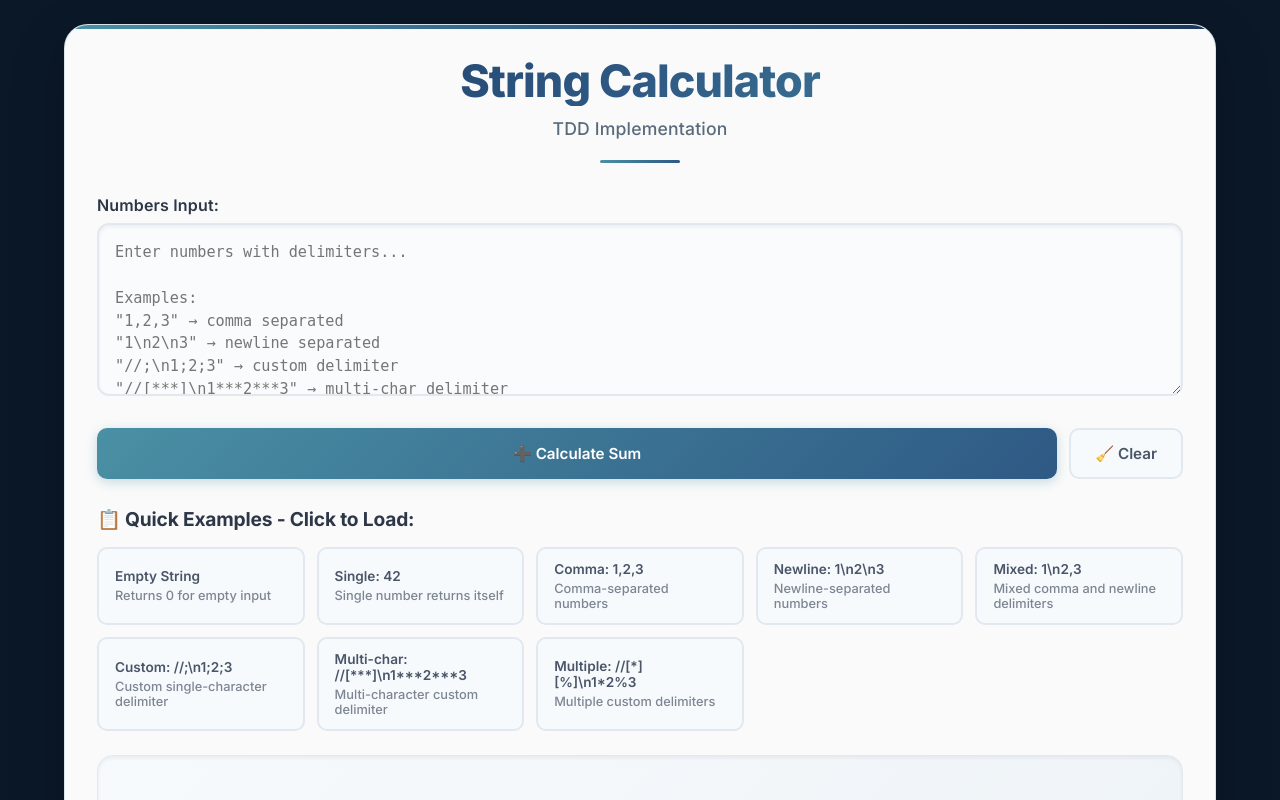
StringCalculator Frontend › example buttons work
Click the text "Comma: 1,2,3" at (599, 569), box [554,561,644,577]
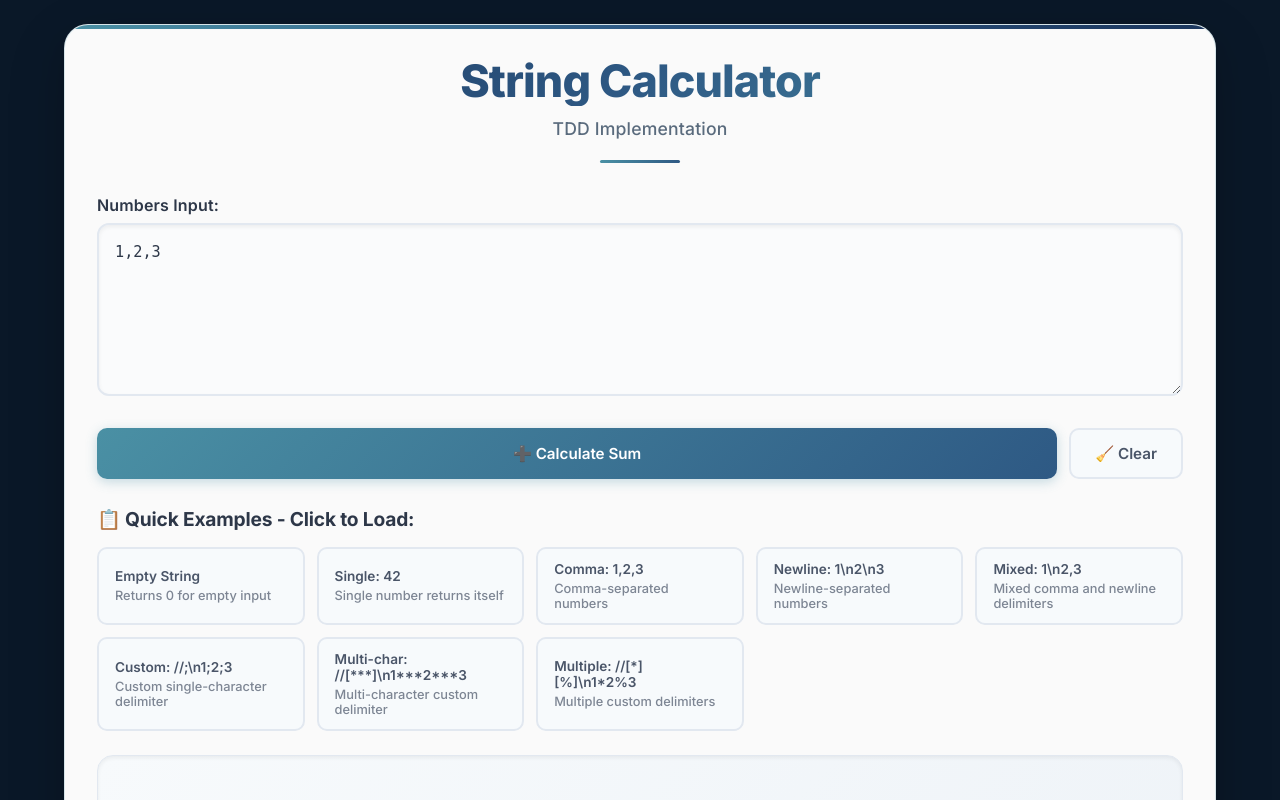
Result: the text box holds "1,2,3" at [97,223,1183,396]
